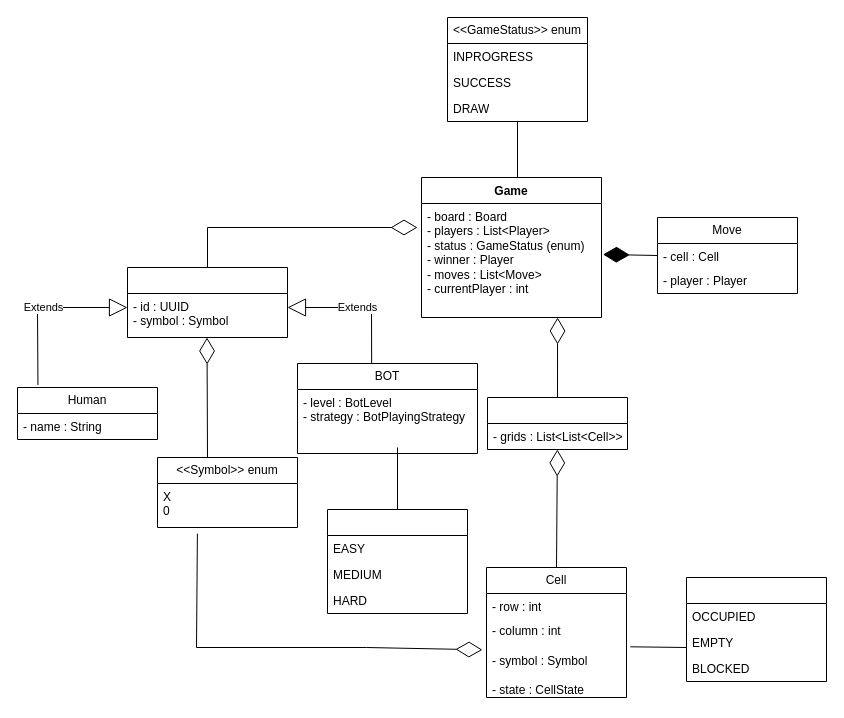
The diagram is 844 pixels wide and 718 high, and some of its shapes have lost their labels. The shapes that lost their labels are listed below. From the top down, each one's box as (x1, y1, x2, y2) in pixels, then its label:
(126, 266, 288, 338): <<Player>> Abstract
(486, 396, 628, 450): Board
(326, 508, 468, 614): <<BotLevel>> enum
(686, 576, 826, 682): <<CellState>> enum
